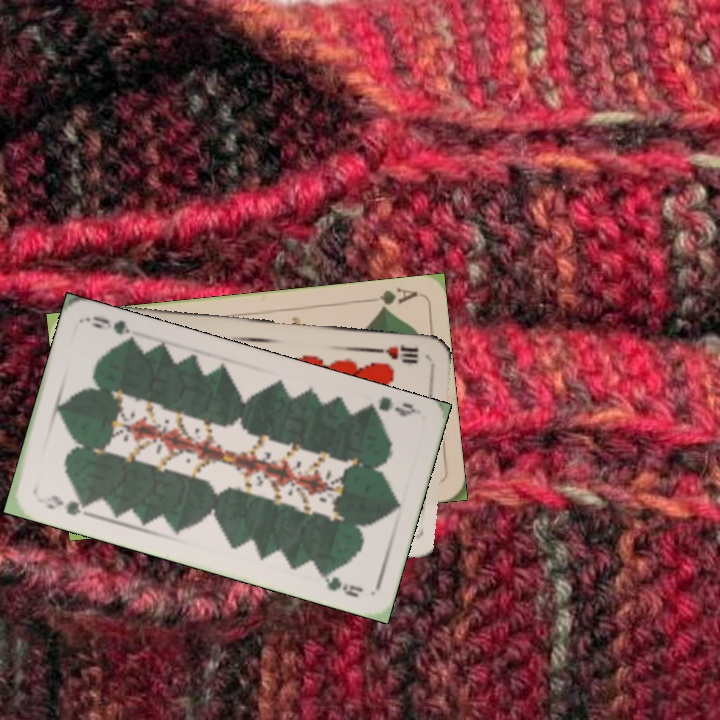G9: (361, 392, 422, 420), (40, 491, 92, 518)
GA: (361, 284, 420, 313)
H10: (368, 340, 421, 366)
